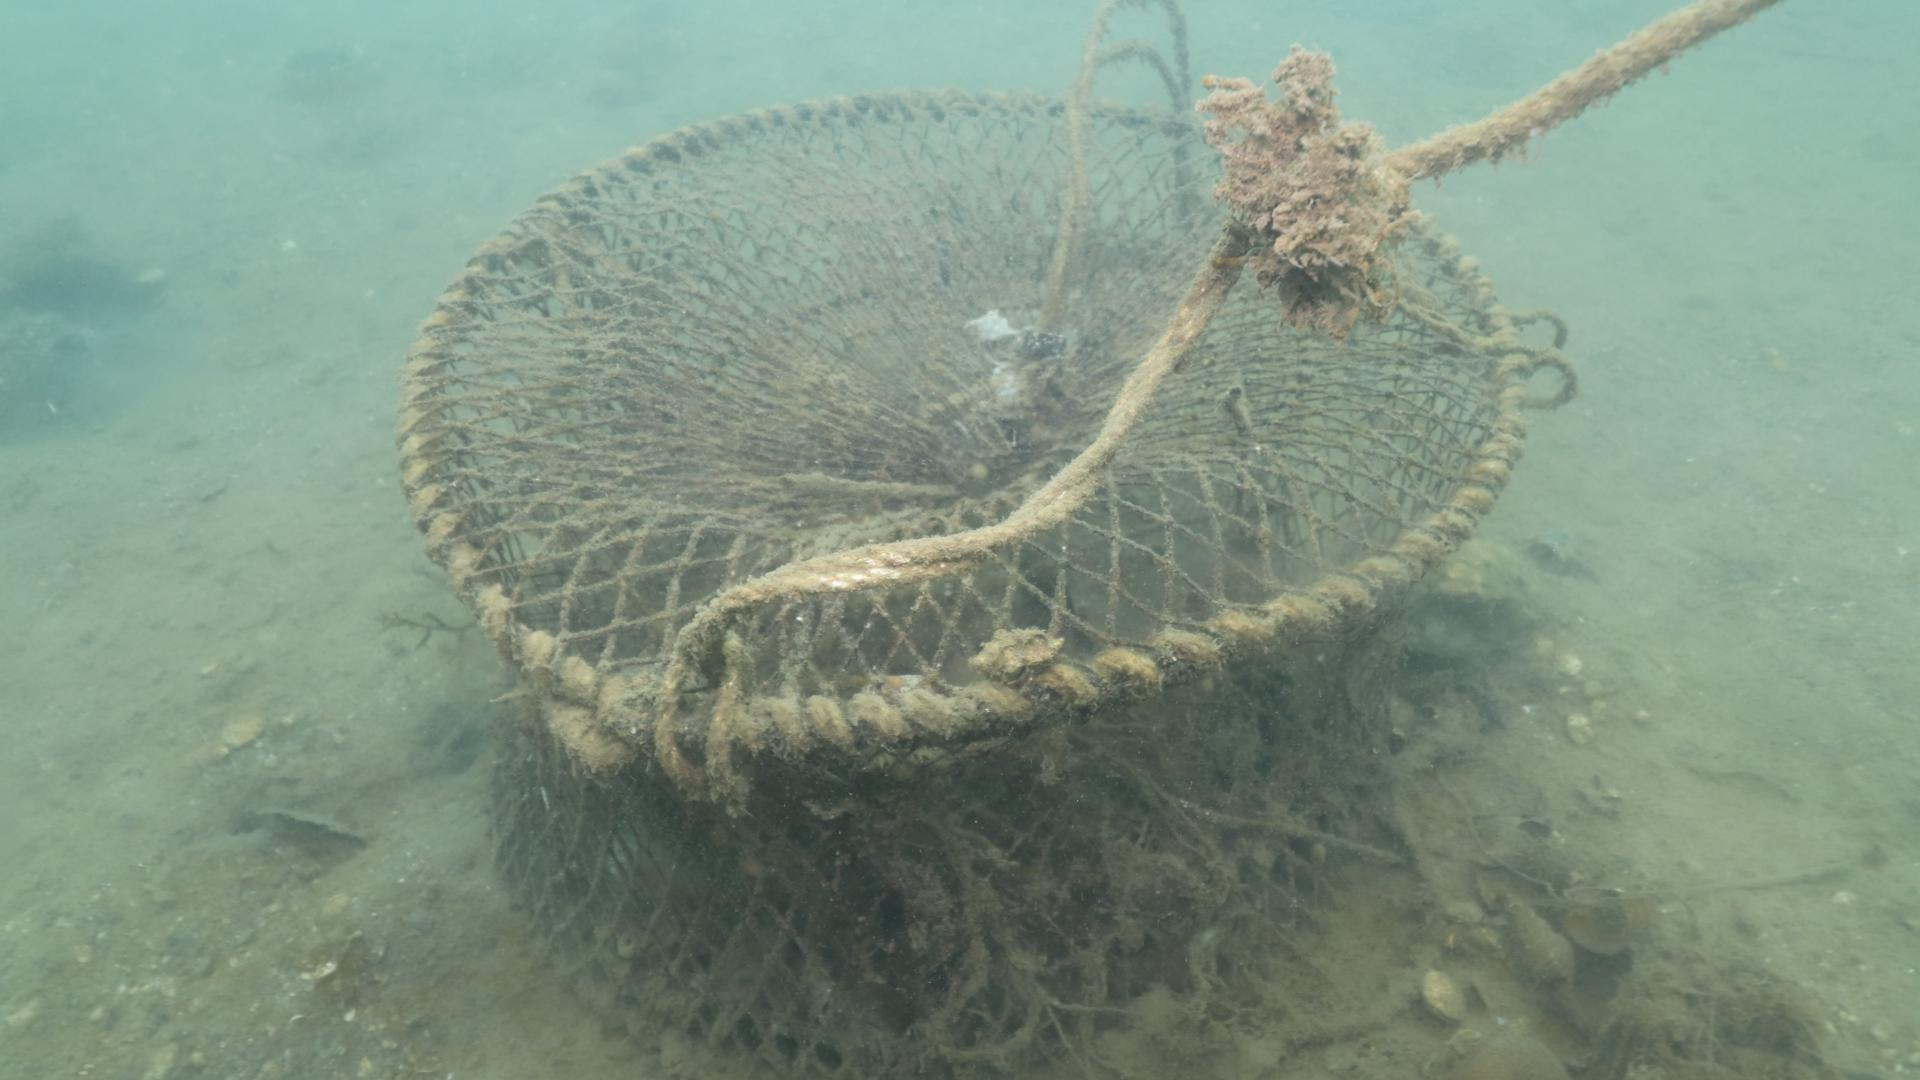circular fish trap: (392, 87, 1531, 1080)
